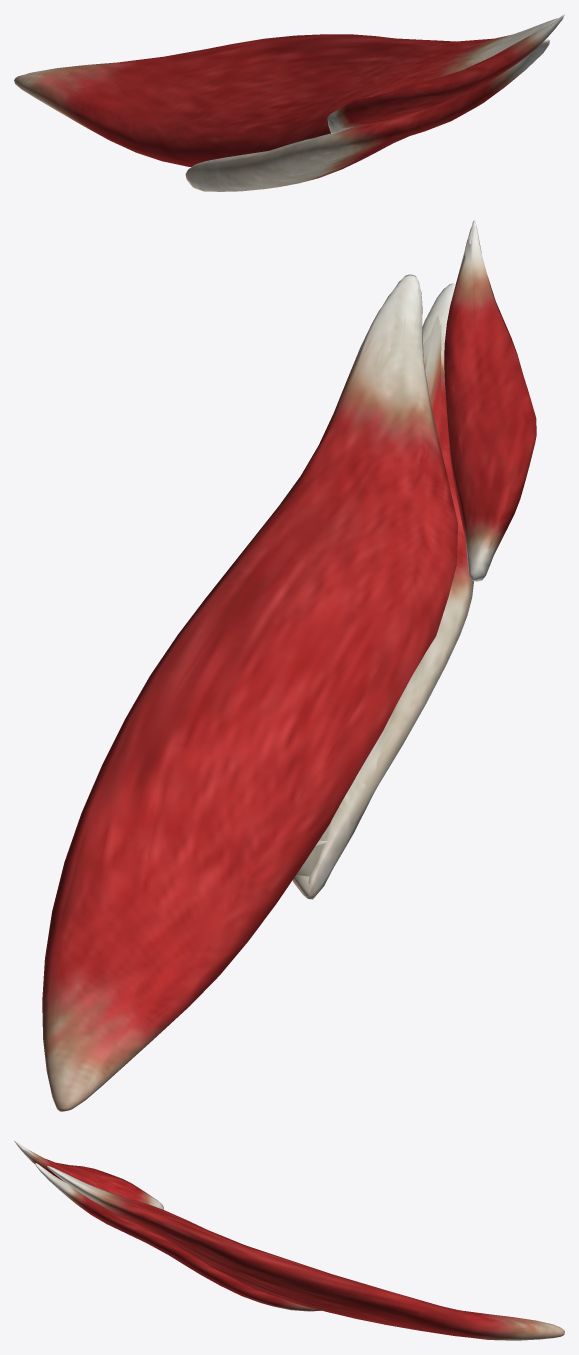
The model's file is L Pectoralis Profundus.fbx.
3 views of the same model, one above another, from view 1: azimuth 30°, elevation 25°; view 2: azimuth 150°, elevation 25°; view 3: azimuth 270°, elevation 25° (orthographic). The views are drawn at different scales.
Visible parts, largest first — view 1: L Pectoralis Profundus, L Pectoralis Profundus low, L Pectoralis Profundus high; view 2: L Pectoralis Profundus low, L Pectoralis Profundus, L Pectoralis Profundus high; view 3: L Pectoralis Profundus, L Pectoralis Profundus low, L Pectoralis Profundus high.
Part boxes in pixels (<box>): L Pectoralis Profundus: <box>14,14,564,191</box>; L Pectoralis Profundus low: <box>16,16,563,191</box>; L Pectoralis Profundus high: <box>15,16,562,191</box>; L Pectoralis Profundus low: <box>42,220,536,1110</box>; L Pectoralis Profundus: <box>42,220,536,1111</box>; L Pectoralis Profundus high: <box>52,222,524,1108</box>; L Pectoralis Profundus: <box>14,1140,564,1340</box>; L Pectoralis Profundus low: <box>16,1141,564,1340</box>; L Pectoralis Profundus high: <box>17,1143,560,1339</box>.
Bounding box in the file's own units: 2.09 × 4.63 × 10.1.
Materials: 1 (1 with a texture image).
